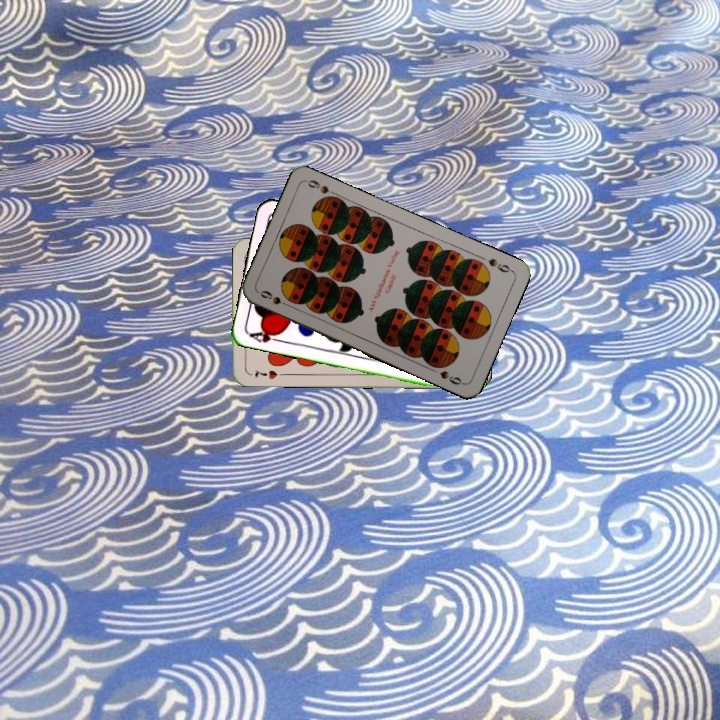H7: (251, 366, 280, 382)
HA: (245, 325, 286, 345)
S9: (256, 286, 294, 310), (484, 254, 515, 275)
